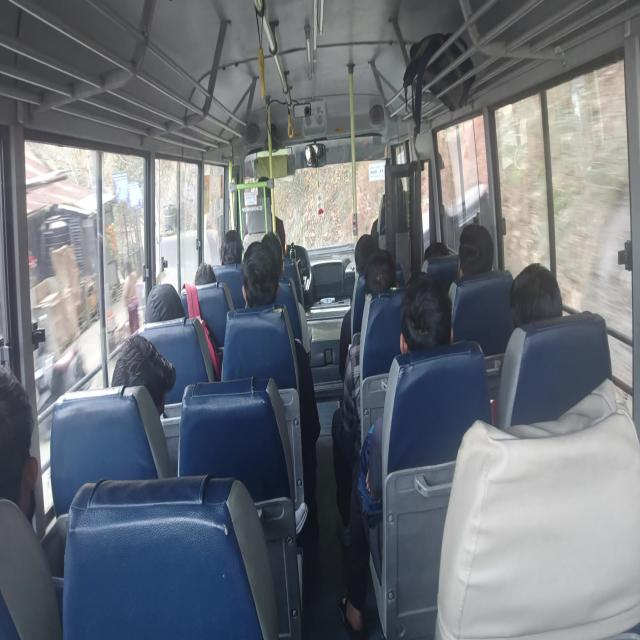person: (2, 360, 48, 520), (114, 332, 178, 418), (396, 266, 455, 354), (505, 258, 560, 329), (243, 242, 277, 312), (357, 243, 396, 299), (461, 221, 495, 283), (144, 283, 184, 332), (371, 171, 411, 213), (260, 228, 290, 274), (218, 224, 244, 275), (354, 233, 382, 276), (251, 168, 278, 209), (421, 234, 450, 264), (195, 262, 222, 293)
